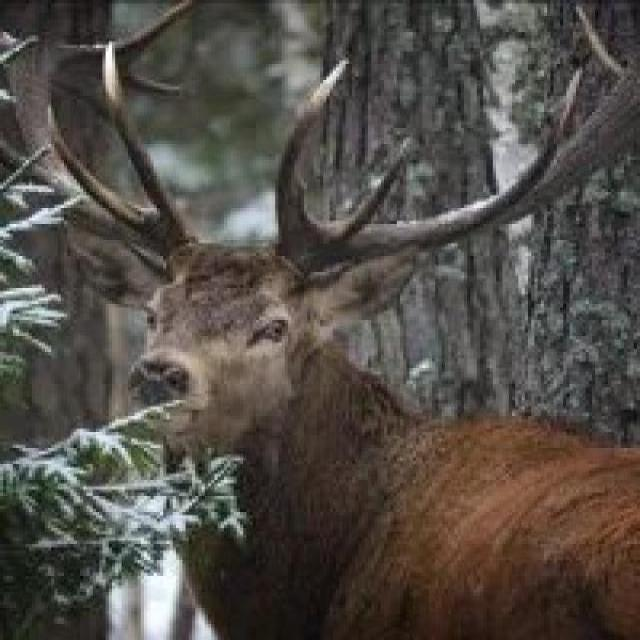deer: (37, 17, 640, 640)
